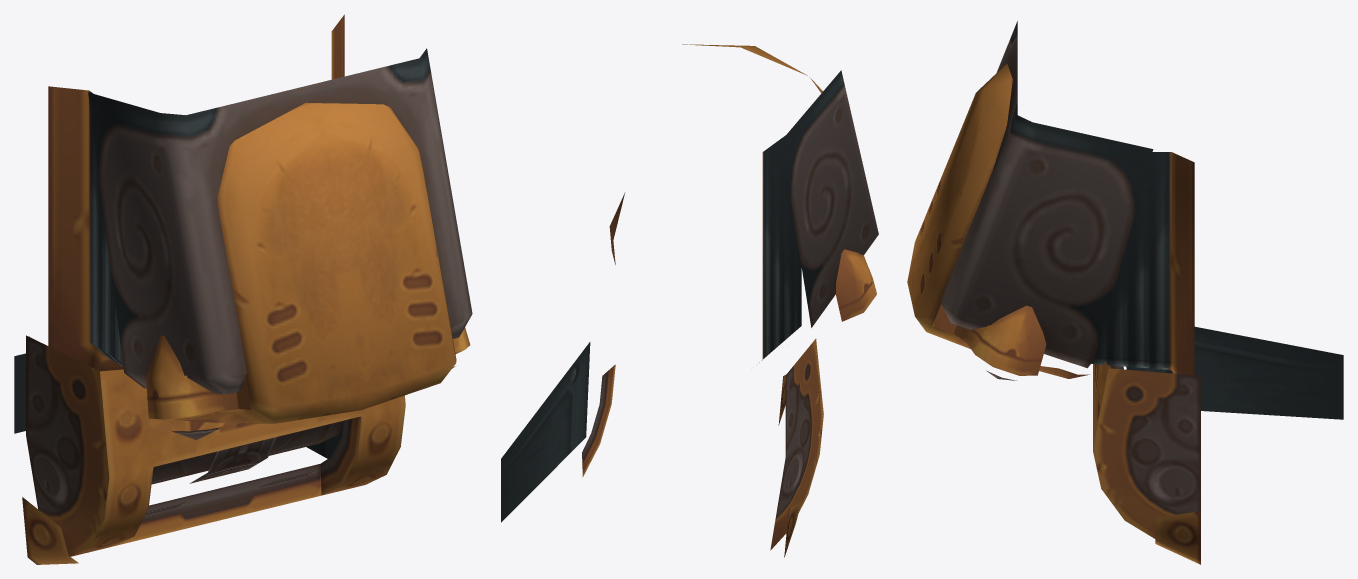
The model's file is modelset_monitordropbox.glb.
The picture shows the model from 3 angles, left to right: view 1: azimuth 30°, elevation 25°; view 2: azimuth 150°, elevation 25°; view 3: azimuth 270°, elevation 25°; orthographic projection. The views are drawn at different scales.
Parts seen in each view (by area): view 1: parts.modelset_monitordropbox-MeshSets[mesh_monitor].Mesh[2], parts.modelset_monitordropbox-MeshSets[mesh_shoot].Mesh[0], parts.modelset_monitordropbox-MeshSets[mesh_hatch].Mesh[0]; view 2: parts.modelset_monitordropbox-MeshSets[mesh_monitor].Mesh[2], parts.modelset_monitordropbox-MeshSets[mesh_shoot].Mesh[0]; view 3: parts.modelset_monitordropbox-MeshSets[mesh_monitor].Mesh[2], parts.modelset_monitordropbox-MeshSets[mesh_shoot].Mesh[0].
Part boxes in pixels (box(x1,y1,x2,y2)): parts.modelset_monitordropbox-MeshSets[mesh_monitor].Mesh[2]: box(29, 14, 472, 439); parts.modelset_monitordropbox-MeshSets[mesh_shoot].Mesh[0]: box(14, 335, 405, 564); parts.modelset_monitordropbox-MeshSets[mesh_hatch].Mesh[0]: box(151, 420, 343, 484); parts.modelset_monitordropbox-MeshSets[mesh_monitor].Mesh[2]: box(609, 44, 878, 425); parts.modelset_monitordropbox-MeshSets[mesh_shoot].Mesh[0]: box(501, 339, 823, 557); parts.modelset_monitordropbox-MeshSets[mesh_monitor].Mesh[2]: box(907, 21, 1194, 380); parts.modelset_monitordropbox-MeshSets[mesh_shoot].Mesh[0]: box(1093, 326, 1343, 564).
Size of the model in its own units: 2.3 by 3.36 by 3.06.
4 materials, 4 textured.
